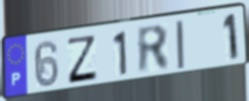1: (222, 11, 241, 63), (111, 29, 129, 77)
6: (33, 39, 61, 89)
I: (174, 18, 187, 71)
R: (135, 24, 172, 77)
Z: (66, 34, 99, 86)
